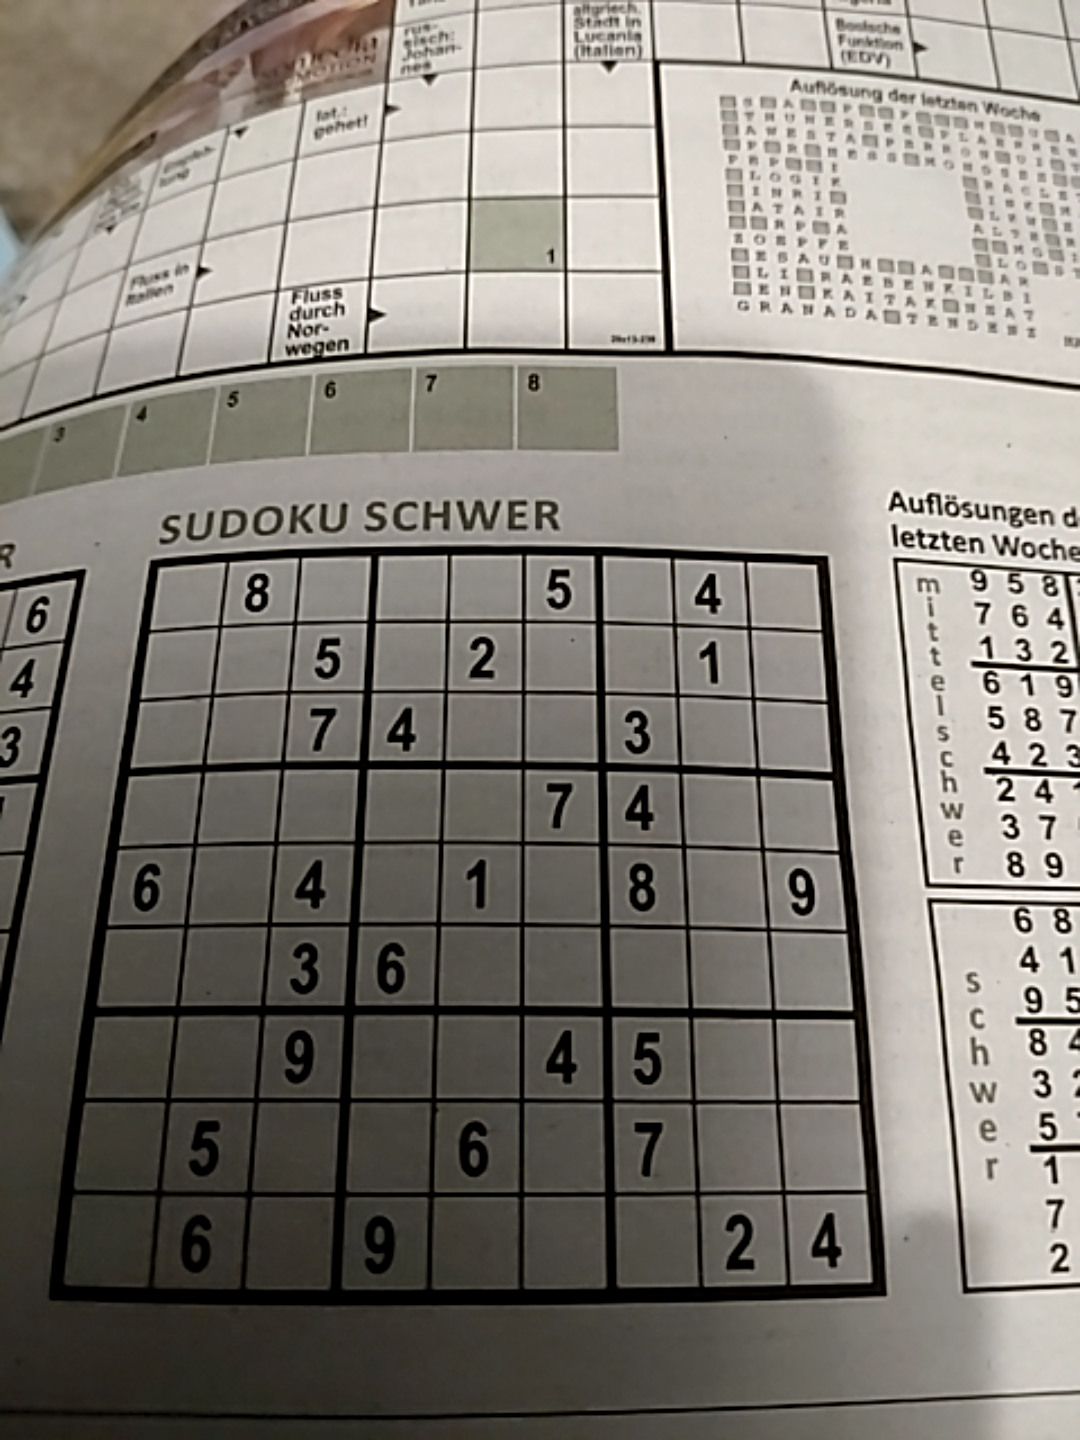sudoku: (40, 541, 888, 1310)
